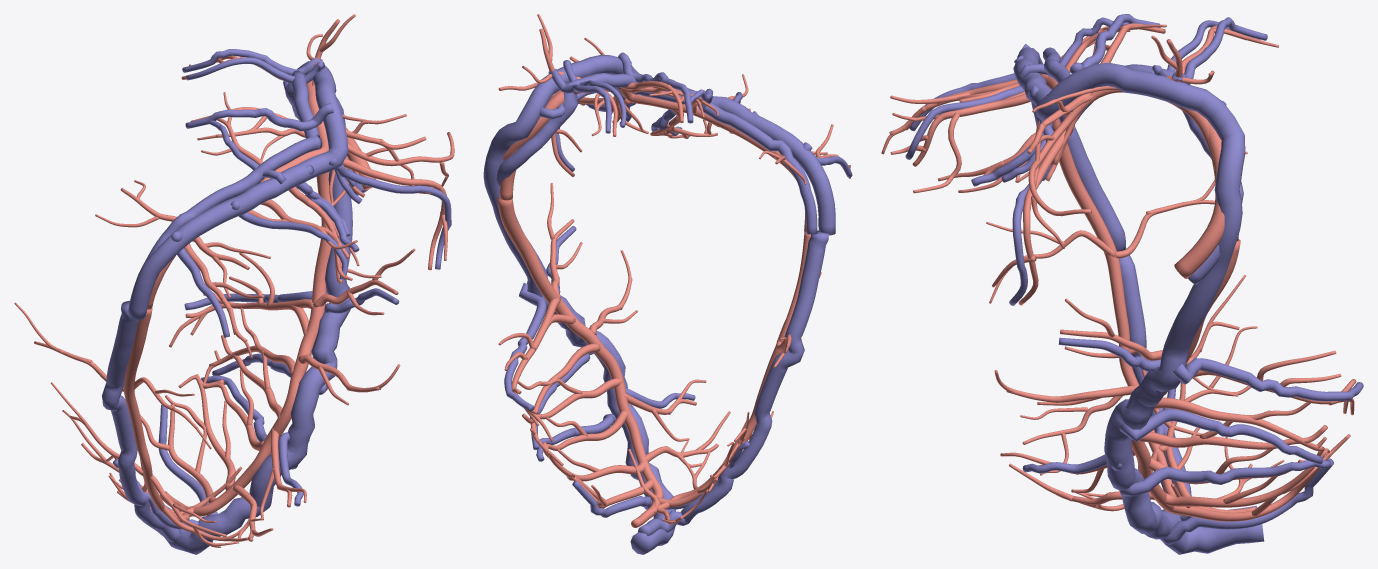
File: vessels_6.glb
The picture shows the model from 3 angles, left to right: view 1: azimuth 30°, elevation 25°; view 2: azimuth 150°, elevation 25°; view 3: azimuth 270°, elevation 25°; orthographic projection. The views are drawn at different scales.
Parts seen in each view (by area): view 1: Renderer Node; view 2: Renderer Node; view 3: Renderer Node.
Boxes of the visible parts, left/top/right/bottom form: Renderer Node: left=14, top=14, right=454, bottom=554; Renderer Node: left=483, top=14, right=852, bottom=554; Renderer Node: left=881, top=14, right=1363, bottom=554.
Size of the model in its own units: 91.88 by 122 by 88.5.
